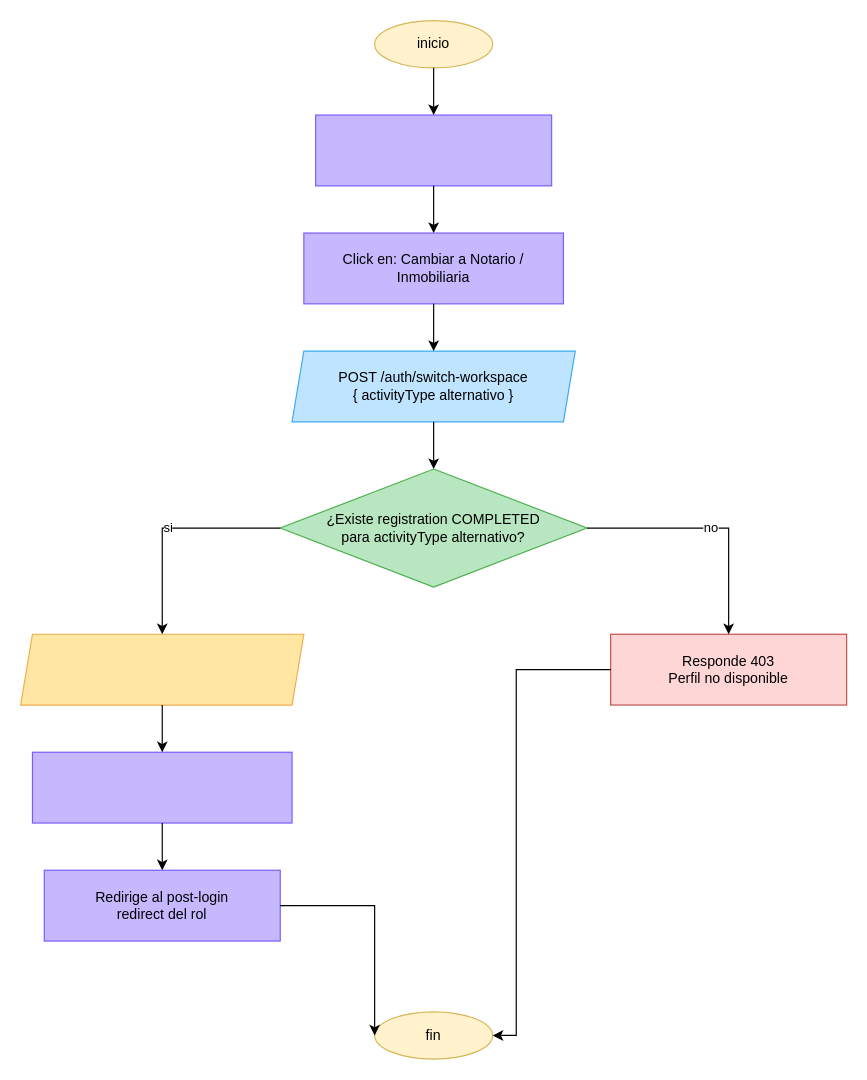
Some shapes in this 867 by 1080 pixel diagram are drawn without their labels. Each missing label, with the centre of its shape:
Guarda token nuevo y limpia cache de queries: the point at 161,787
Re-emite JWT con nuevo workspaceId y activityType: the point at 161,669
Usuario abre menú de iniciales: the point at 433,150
